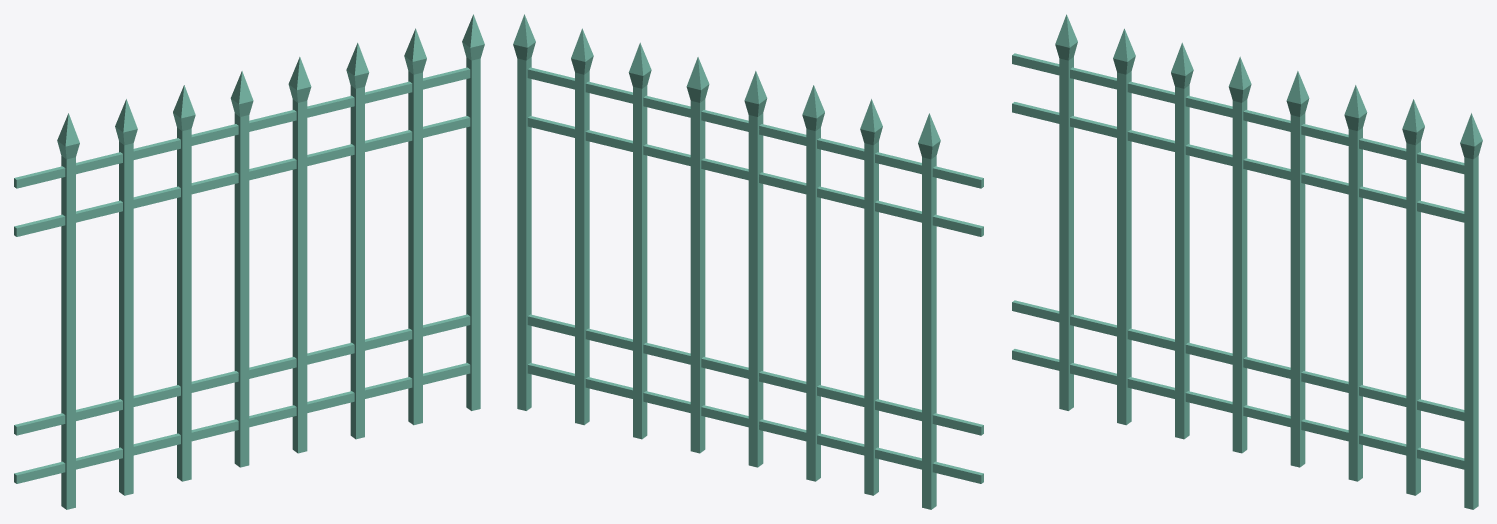
The model's file is fenceIron.fbx.
3 renders of one model, left to right at view 1: azimuth 30°, elevation 25°; view 2: azimuth 150°, elevation 25°; view 3: azimuth 330°, elevation 25°, orthographic.
Visible parts, largest first — view 1: bar 11, bar, bar 1, bar 2, bar 3, bar 8, bar 9, bar 10, bar 4, bar 5, bar 6, bar 7; view 2: bar 11, bar, bar 1, bar 2, bar 3, bar 8, bar 9, bar 10, bar 4, bar 5, bar 6, bar 7; view 3: bar, bar 11, bar 8, bar 10, bar 9, bar 1, bar 3, bar 2, bar 6, bar 7, bar 4, bar 5.
Boxes of the visible parts, x1,y1,x2,y2 form: bar 11: (288, 57, 311, 453); bar: (230, 71, 253, 467); bar 1: (173, 85, 195, 481); bar 2: (115, 99, 137, 495); bar 3: (57, 113, 79, 509); bar 8: (462, 14, 484, 410); bar 9: (404, 28, 426, 425); bar 10: (346, 42, 369, 439); bar 4: (14, 314, 470, 435); bar 5: (14, 67, 470, 188); bar 6: (14, 116, 470, 236); bar 7: (14, 363, 470, 483); bar 11: (686, 57, 709, 453); bar: (744, 71, 767, 467); bar 1: (802, 85, 824, 481); bar 2: (860, 99, 882, 495); bar 3: (918, 113, 940, 509); bar 8: (513, 14, 535, 410); bar 9: (571, 28, 593, 425); bar 10: (628, 42, 651, 439); bar 4: (527, 314, 983, 435); bar 5: (527, 67, 983, 188); bar 6: (527, 116, 983, 236); bar 7: (527, 363, 983, 483); bar: (1228, 56, 1251, 453); bar 11: (1286, 71, 1309, 467); bar 8: (1460, 113, 1482, 509); bar 10: (1344, 85, 1367, 481); bar 9: (1402, 99, 1424, 495); bar 1: (1171, 42, 1193, 439); bar 3: (1055, 14, 1077, 410); bar 2: (1113, 28, 1135, 425); bar 6: (1012, 102, 1464, 222); bar 7: (1012, 349, 1464, 469); bar 4: (1012, 300, 1464, 420); bar 5: (1012, 53, 1464, 173).
Bounding box in the file's own units: 10.06 × 8.14 × 0.314.
